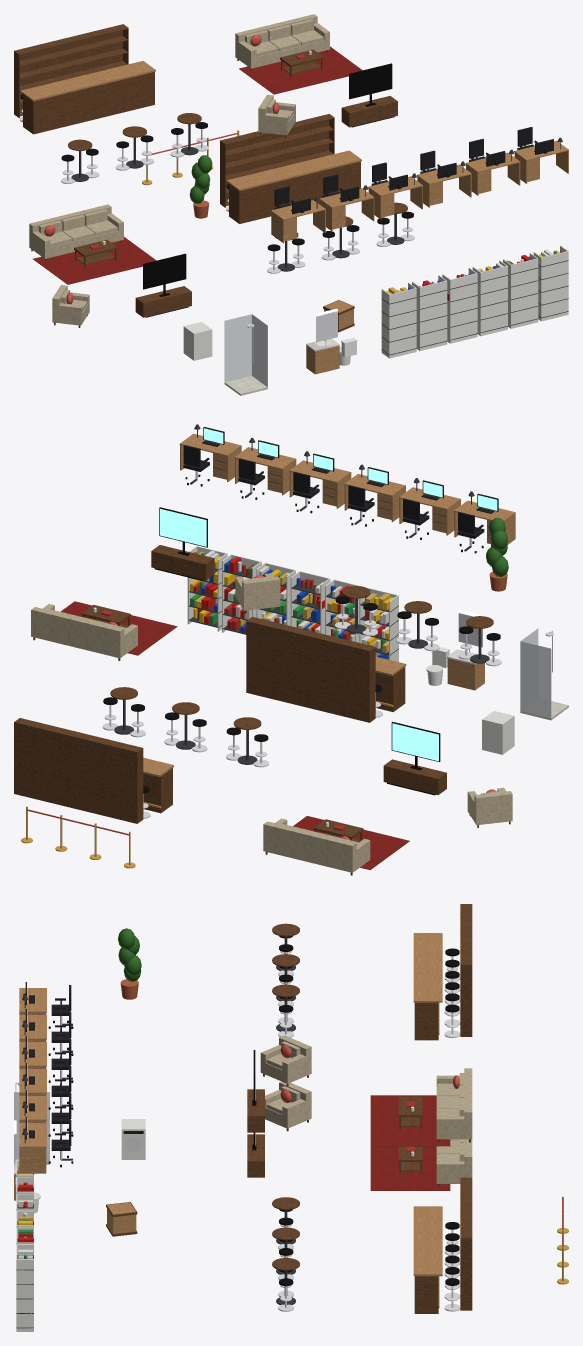
Rendered from i_club_nova.gltf.
The picture shows the model from 3 angles, top to bottom: view 1: azimuth 30°, elevation 25°; view 2: azimuth 150°, elevation 25°; view 3: azimuth 270°, elevation 25°; orthographic projection. The views are drawn at different scales.
Visible parts, largest first — view 1: I_club_nova; view 2: I_club_nova; view 3: I_club_nova.
Part boxes in pixels (left/top/right/bottom): I_club_nova: left=14, top=14, right=568, bottom=395; I_club_nova: left=14, top=424, right=568, bottom=875; I_club_nova: left=14, top=904, right=568, bottom=1331.
Bounding box in the file's own units: 13.16 × 6.4 × 13.91.
Materials: 29 (8 with a texture image).
